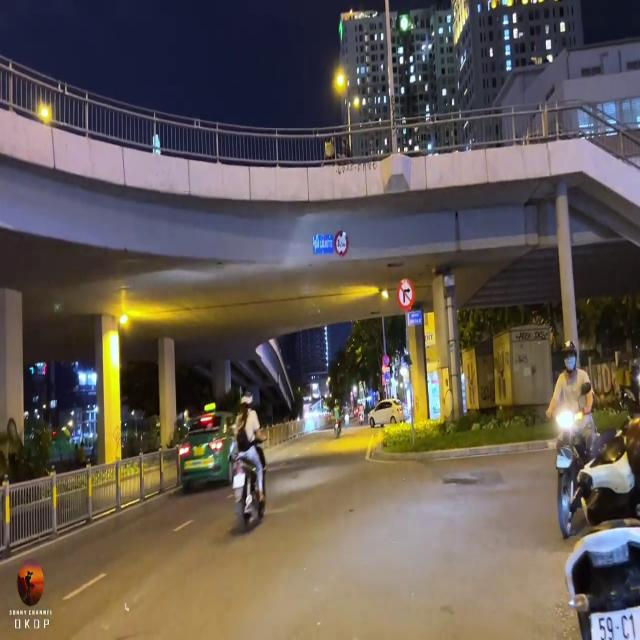bien_trang: (584, 603, 640, 640)
